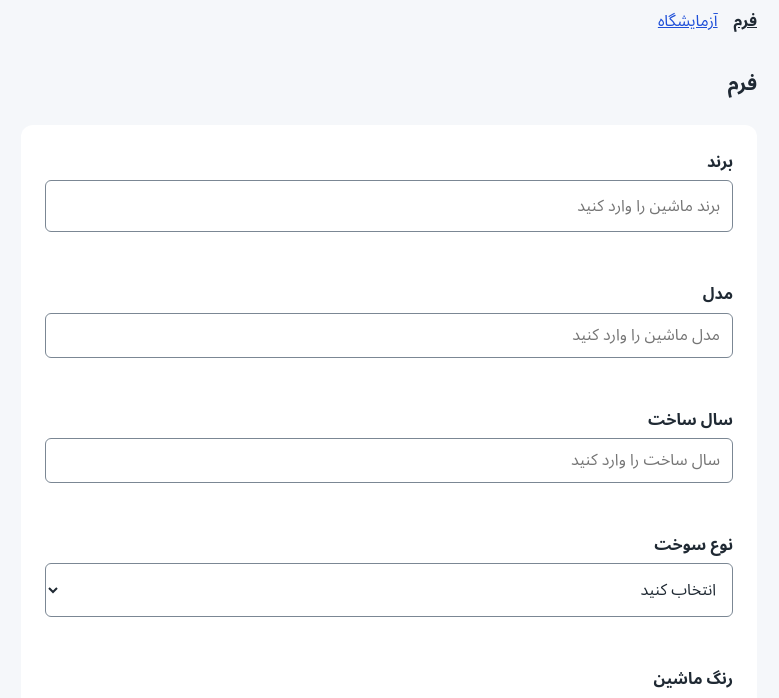
Test: axe after interaction (TC-A02) › finds no violations in the success panel
Type "پژو" into the field labelled "برند" at (389, 206), box [45, 180, 733, 232]
(page scrolled)
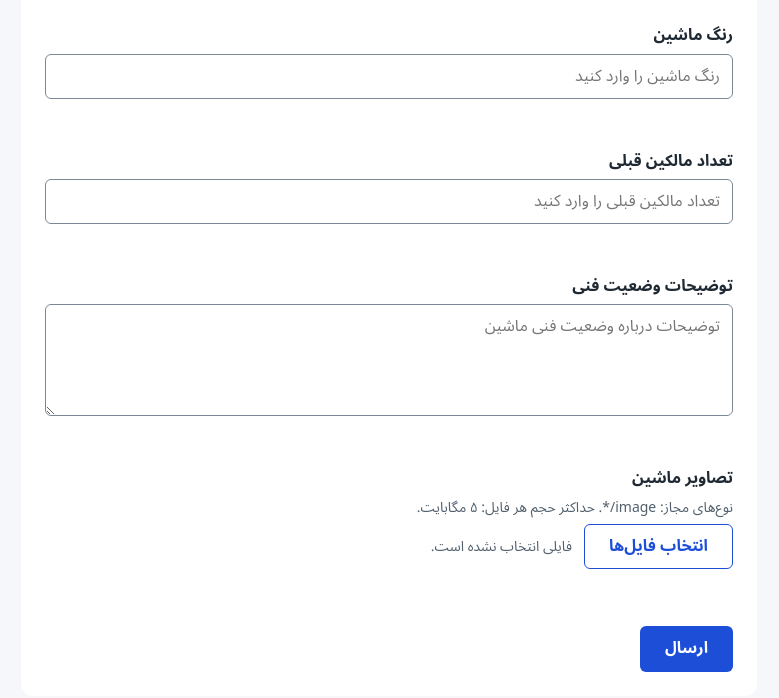
Click the button "ارسال" at (686, 649), box [640, 626, 733, 672]
(page scrolled)
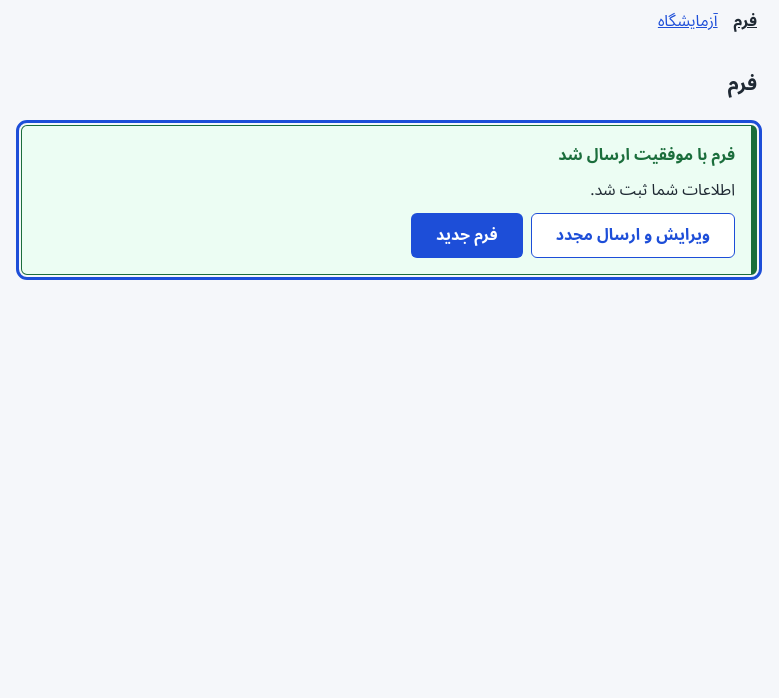
Now the text "فرم با موفقیت ارسال شد" is shown, box [558, 138, 735, 172]
